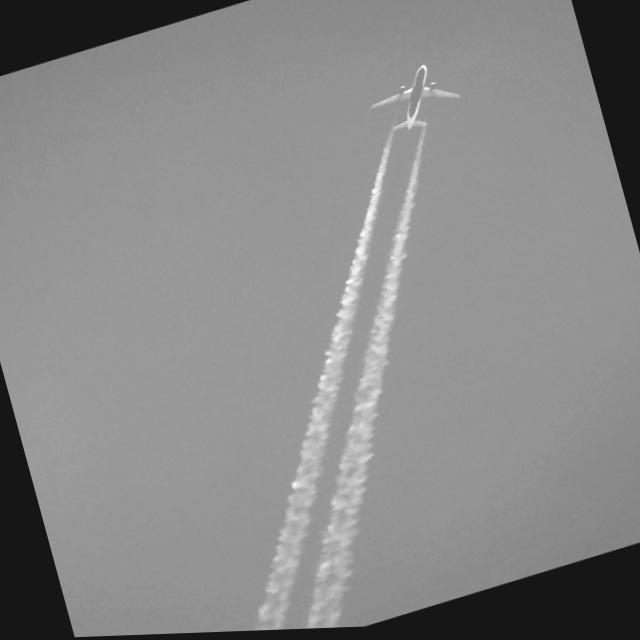aeroplane: (362, 56, 469, 147)
